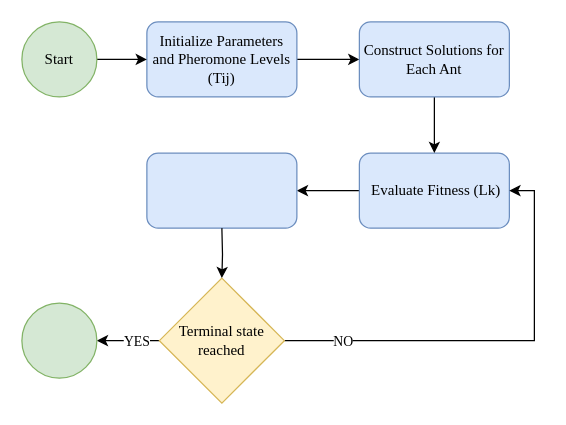
Some shapes in this 566 by 425 pixel diagram are drawn without their labels. The centre of each missing label's shape, as x and y in pixels:
"End" belongs at (x=59, y=340).
"Update Pheromone Levels and Evaporation" belongs at (x=221, y=190).
